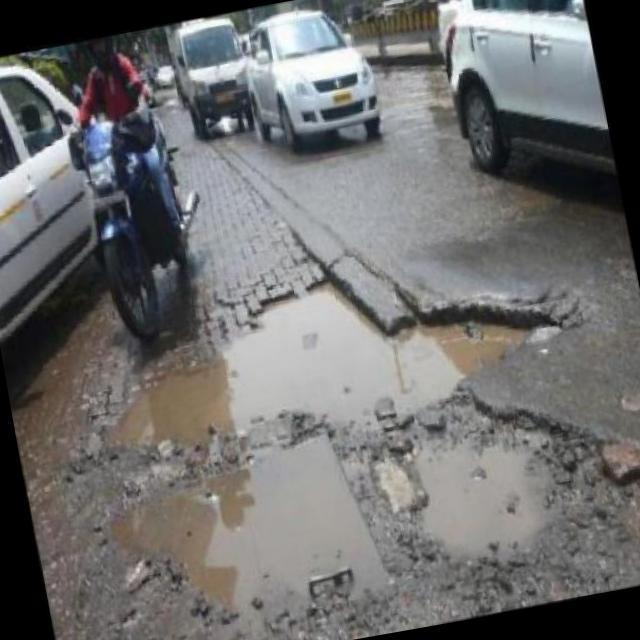Pothole: (102, 286, 560, 452), (110, 436, 387, 627), (372, 433, 563, 558)
